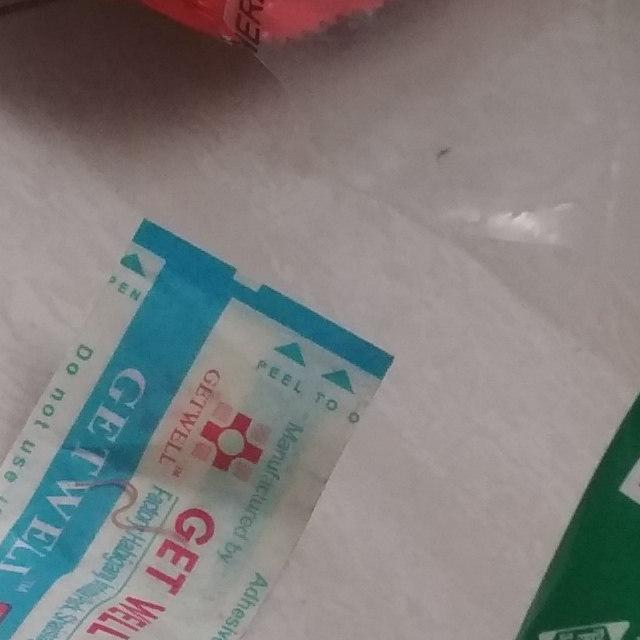paper: (0, 180, 436, 640)
plastic: (275, 0, 640, 640)
